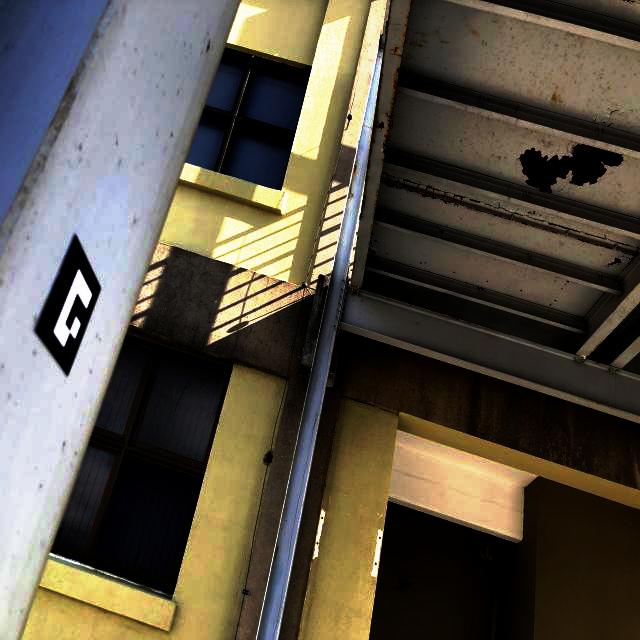Corrosion: (519, 143, 623, 193), (382, 64, 401, 167), (384, 182, 455, 205), (575, 237, 619, 251), (369, 230, 377, 255), (391, 46, 403, 58), (374, 119, 385, 132), (608, 257, 622, 266), (404, 20, 408, 44), (384, 20, 388, 34), (623, 0, 637, 4), (353, 162, 357, 173), (477, 287, 484, 290)
